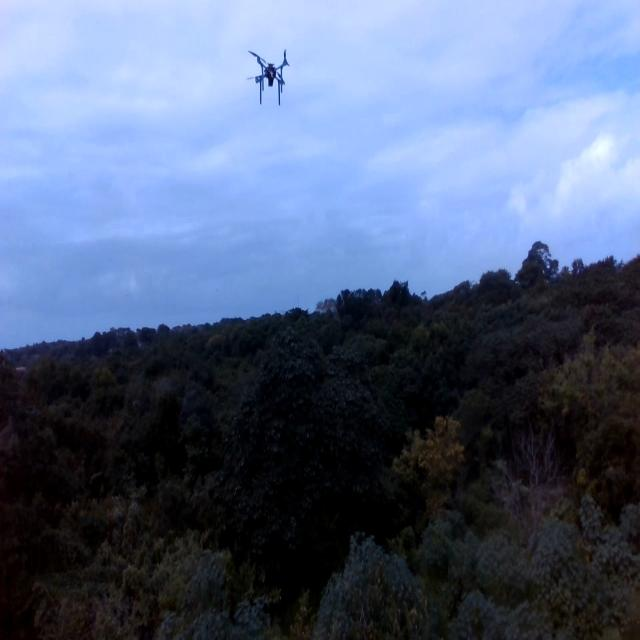-uav-: (242, 37, 294, 108)
